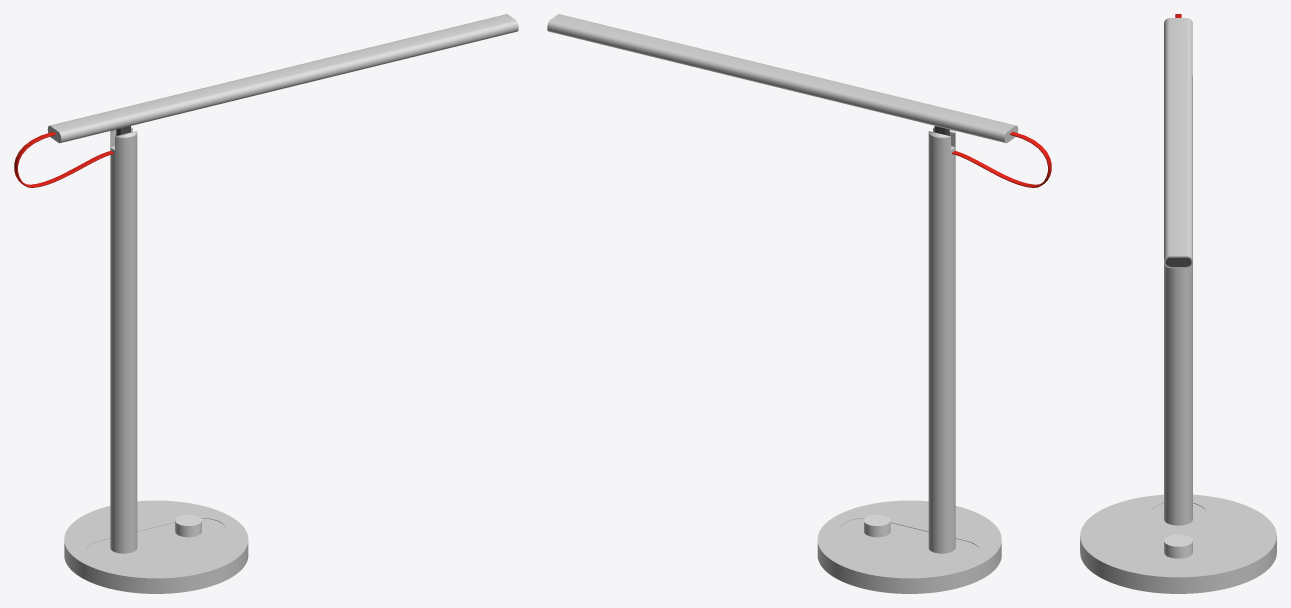
File: lamp-hfc.glb
3 views of the same model, side by side, from view 1: azimuth 30°, elevation 25°; view 2: azimuth 150°, elevation 25°; view 3: azimuth 270°, elevation 25° (orthographic). The views are drawn at different scales.
Parts seen in each view (by area): view 1: lamp-hfc, support, arm1, cable; view 2: lamp-hfc, support, arm1, cable; view 3: lamp-hfc, support, arm1, knob.
Part boxes in pixels (left/top/right/bottom): lamp-hfc: left=64, top=500, right=248, bottom=593; support: left=110, top=127, right=137, bottom=553; arm1: left=47, top=14, right=518, bottom=143; cable: left=14, top=132, right=113, bottom=187; lamp-hfc: left=817, top=500, right=1001, bottom=593; support: left=928, top=127, right=955, bottom=553; arm1: left=547, top=14, right=1018, bottom=143; cable: left=952, top=132, right=1051, bottom=187; lamp-hfc: left=1080, top=494, right=1276, bottom=593; support: left=1164, top=75, right=1192, bottom=525; arm1: left=1164, top=18, right=1192, bottom=268; knob: left=1164, top=534, right=1192, bottom=558.
Size of the model in its own units: 0.4668 by 0.406 by 0.15.
